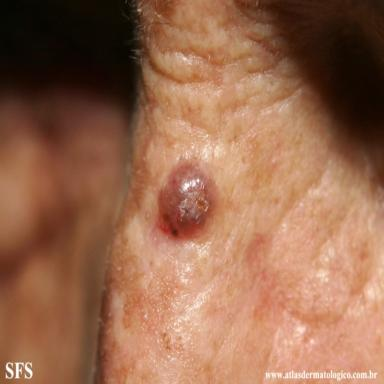basal-cell-carcinoma: (159, 163, 217, 237)
